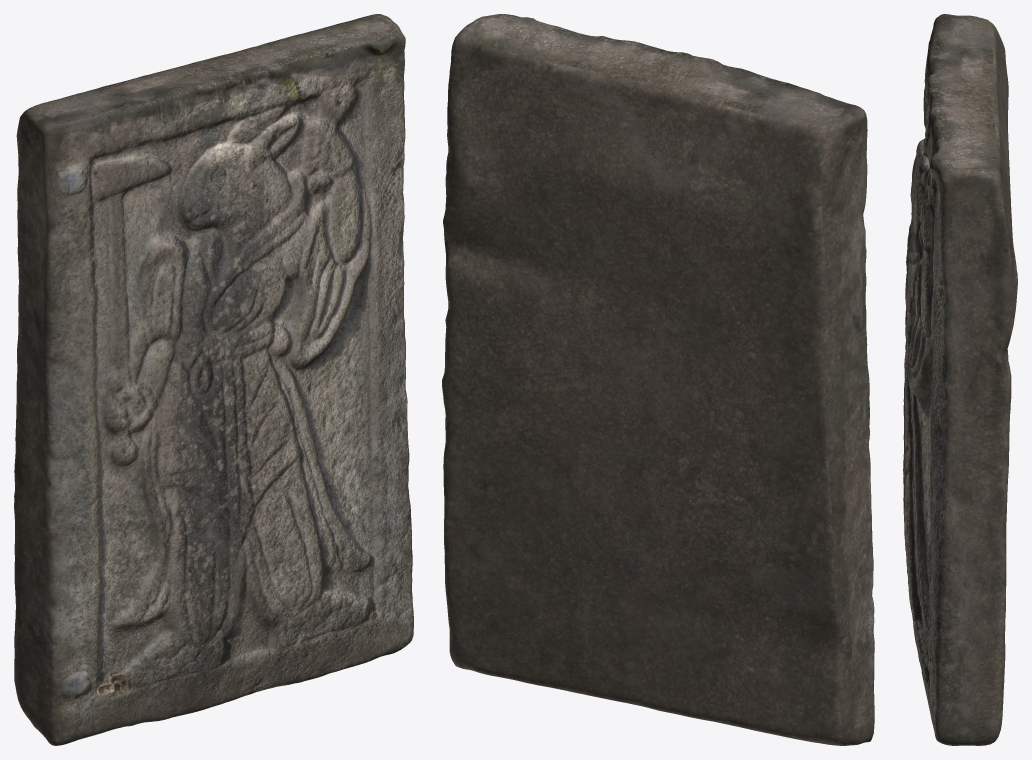
The picture shows the model from 3 angles, left to right: view 1: azimuth 30°, elevation 25°; view 2: azimuth 150°, elevation 25°; view 3: azimuth 270°, elevation 25°; orthographic projection. The views are drawn at different scales.
Visible parts, largest first — view 1: Object_2; view 2: Object_2; view 3: Object_2.
Part boxes in pixels (x1=…): Object_2: x1=14, y1=14, x2=413, y2=745; Object_2: x1=442, y1=14, x2=874, y2=745; Object_2: x1=903, y1=14, x2=1017, y2=745.
Bounding box in the file's own units: 0.6202 × 0.9702 × 0.1741.
Materials: 1 (1 with a texture image).
